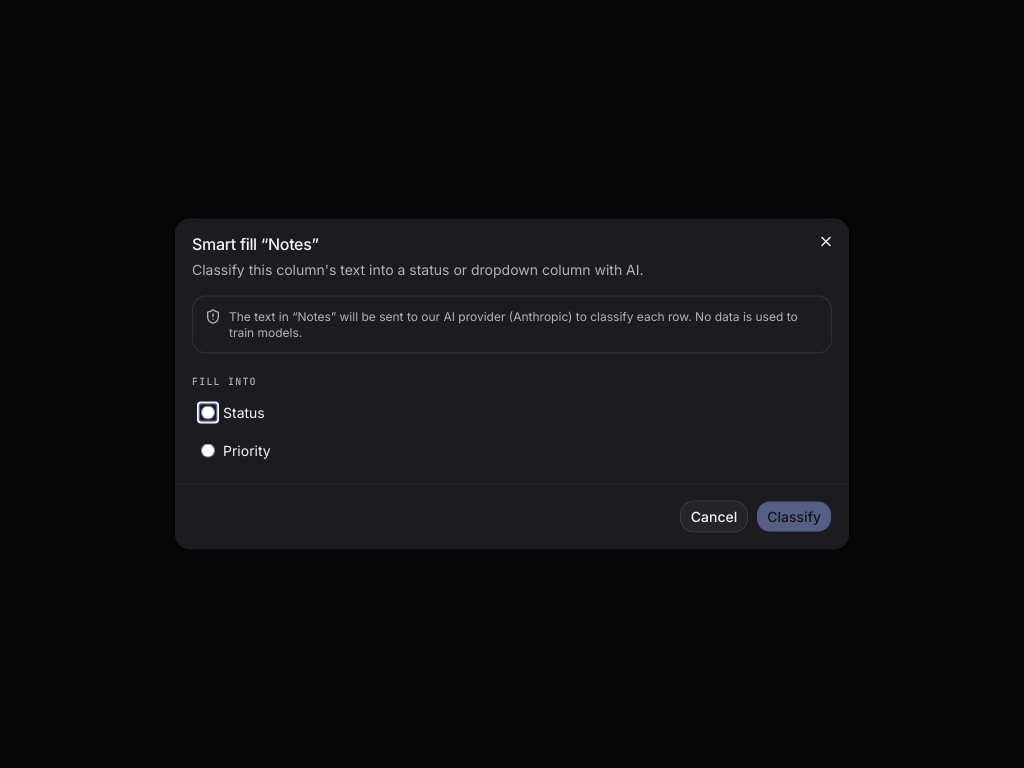
Test: SmartFillDialog › renders a returned classify error inline without crashing
Click the radio button labelled "Status".
click(208, 412)  # box x1=201 y1=406 x2=215 y2=420
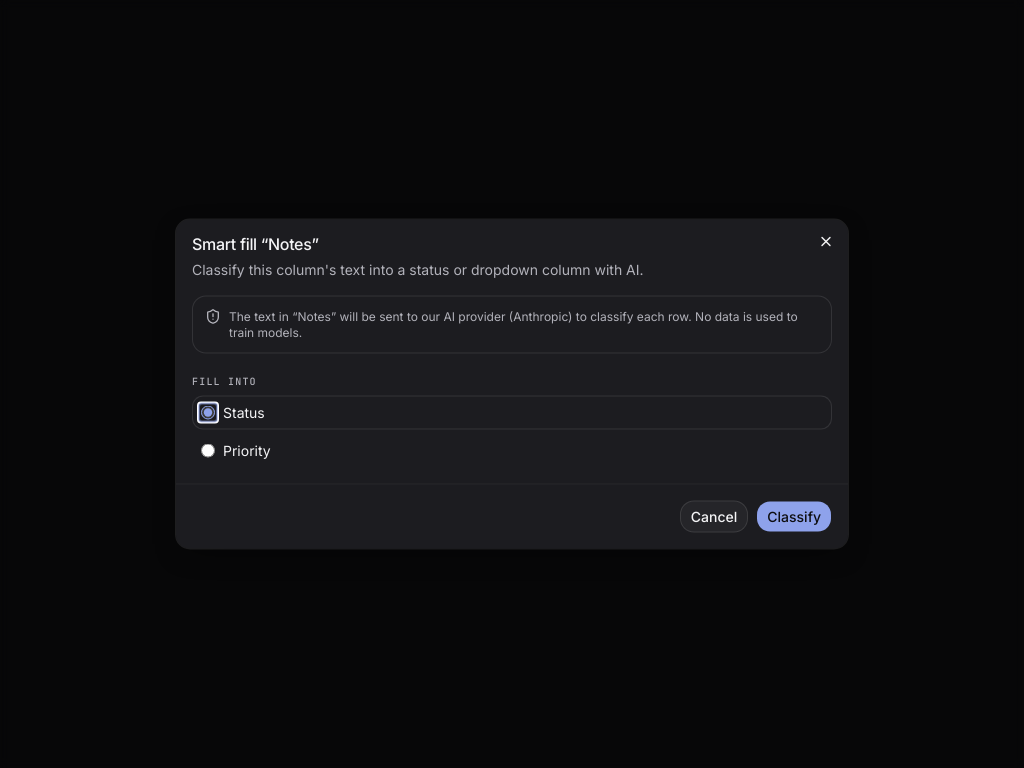
Click the button "Classify".
click(794, 516)  # box x1=756 y1=500 x2=832 y2=532
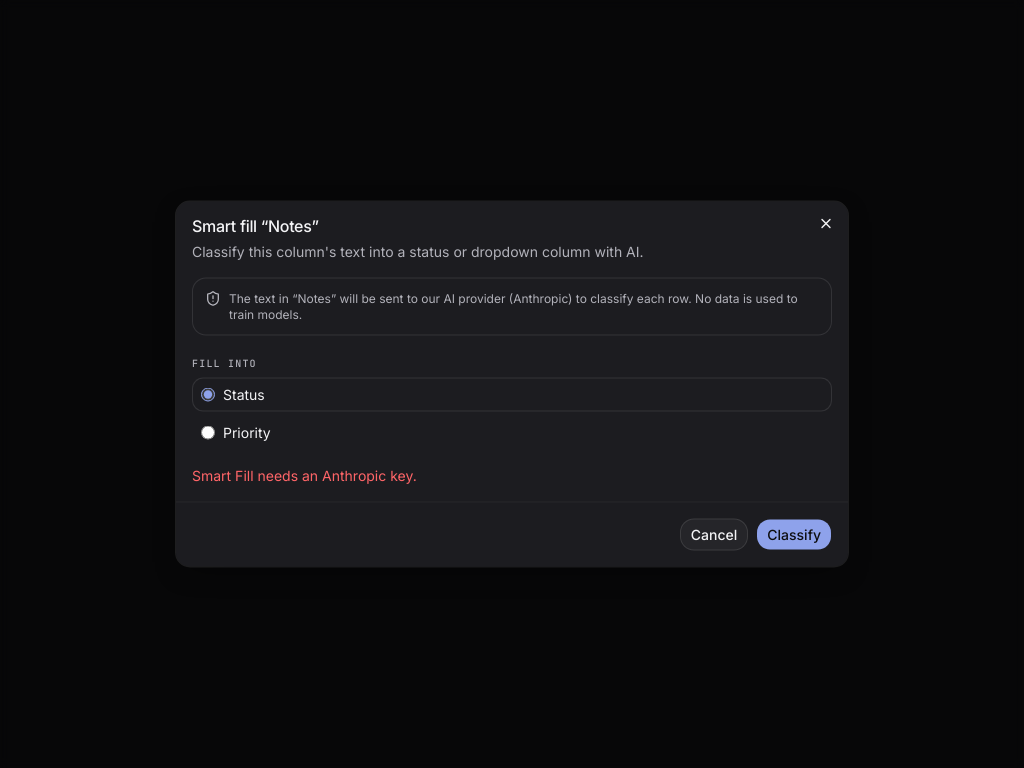
Expected: the button "Classify" is enabled, x1=756 y1=518 x2=832 y2=550
Expected: the message reads "Smart Fill needs an Anthropic key.", x1=192 y1=466 x2=417 y2=484
